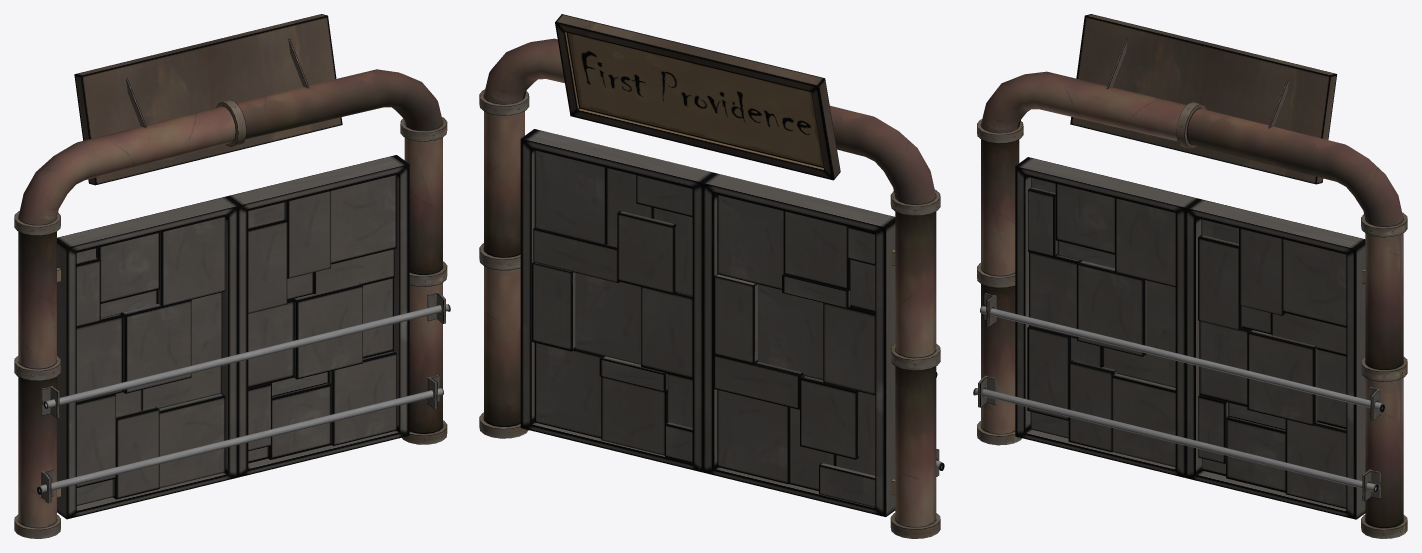
Rendered from gate.fbx.
3 renders of one model, left to right at view 1: azimuth 30°, elevation 25°; view 2: azimuth 150°, elevation 25°; view 3: azimuth 330°, elevation 25°, orthographic. The views are drawn at different scales.
Visible parts, largest first — view 1: junk_gate; view 2: junk_gate; view 3: junk_gate.
Boxes of the visible parts, left/top/right/bottom form: junk_gate: left=14, top=14, right=450, bottom=538; junk_gate: left=479, top=14, right=944, bottom=538; junk_gate: left=973, top=14, right=1407, bottom=538.
Size of the model in its own units: 592 by 559 by 106.
Materials: 1 (1 with a texture image).
